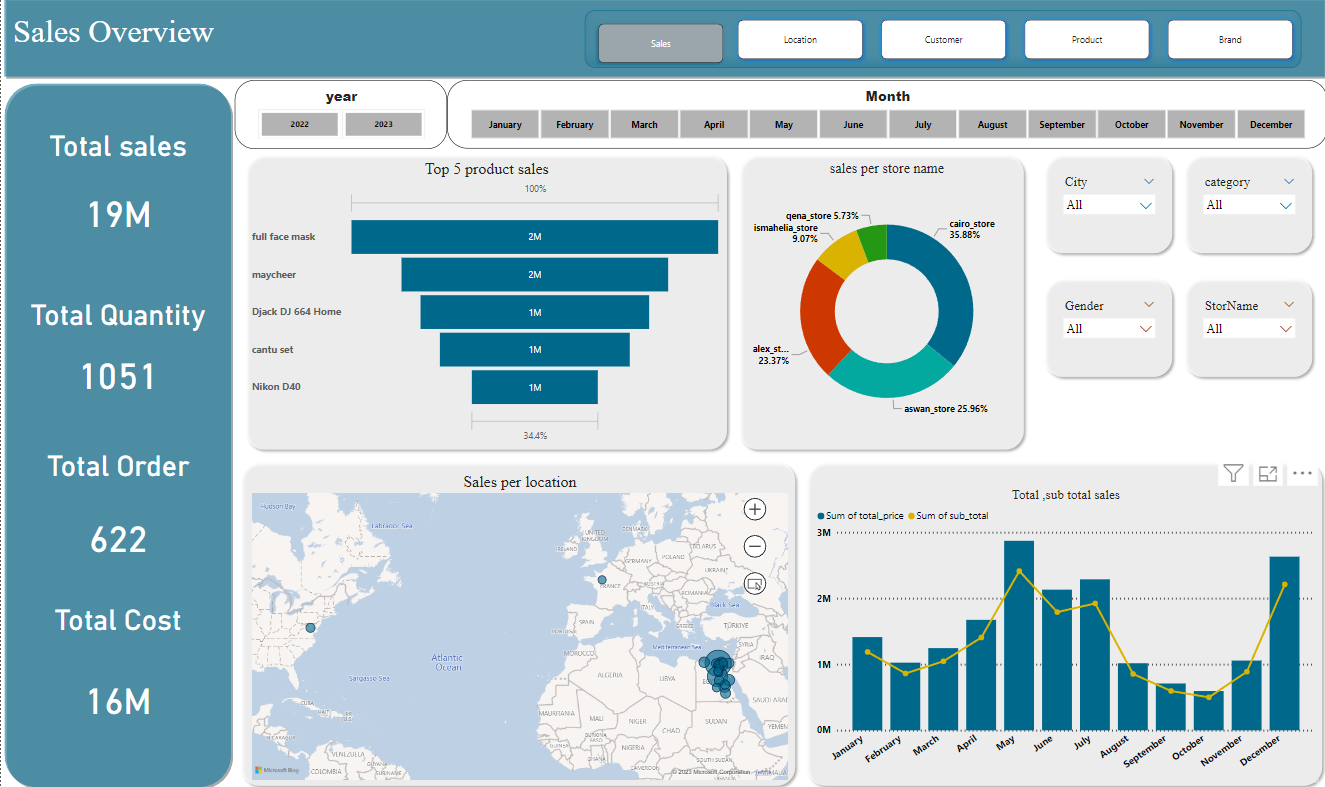

The page's visual inventory and layout, read from the dashboard file:
{"tool":"powerbi","page":{"name":"Sales","canvas":[2000,1200],"ordinal":0},"visuals":[{"type":"shape","box":[0,0,2000,128.4],"z":0},{"type":"textbox","box":[123.2,19.6,457.1,87.5],"z":1000},{"type":"shape","box":[0,128.6,351.8,1071.4],"z":2000},{"type":"slicer","title":"year","fields":{"Values":["DimDate.year"]},"box":[352.3,128.1,320.3,103.6],"z":3000},{"type":"slicer","title":"Month","fields":{"Values":["DimDate.orderDate.Variation.Date Hierarchy.Month"]},"box":[673.2,128.6,1326.8,103.6],"z":4000},{"type":"shape","box":[351.8,694.6,853.6,505.4],"z":5000},{"type":"shape","box":[1205.4,694.6,794.6,505.4],"z":6000},{"type":"shape","box":[360.7,232.1,742.9,462.5],"z":7000},{"type":"shape","box":[1103.6,232.1,446.4,462.5],"z":8000},{"type":"map","title":"Sales per location","fields":{"Category":["Dimlocation.City"],"Size":["Sum(FOrder.total_price)"]},"box":[373.2,719.6,817.9,467.9],"z":9000},{"type":"donutChart","title":"sales per store name ","fields":{"Category":["DimStor.StorName"],"Y":["Sum(FOrder.total_price)"]},"box":[1121.4,248.2,428.6,432.1],"z":10000},{"type":"funnel","title":"Top 5 product sales","fields":{"Category":["Dimproduct.productName"],"Y":["Sum(FOrder.total_price)"]},"box":[373.2,248.2,717.9,432.1],"z":11000},{"type":"lineClusteredColumnComboChart","title":"Total ,sub total sales","fields":{"Category":["DimDate.orderDate.Variation.Date Hierarchy.Month"],"Y":["Sum(FOrder.total_price)"],"Y2":["Sum(FOrder.sub_total)"]},"box":[1225,742.9,760.7,444.6],"z":12000},{"type":"card","fields":{"Values":["Sum(FOrder.total_price)"]},"box":[26.8,275,300,96.4],"z":13000},{"type":"card","fields":{"Values":["Sum(FOrder.Quantity)"]},"box":[26.8,519.6,300,96.4],"z":14000},{"type":"card","fields":{"Values":["Sum(FOrder.sub_total)"]},"box":[26.4,1009.7,299.5,96.1],"z":15000},{"type":"card","fields":{"Values":["CountNonNull(FOrder.Order ID)"]},"box":[26.8,764.3,300,96.4],"z":16000},{"type":"shape","box":[1775,232.1,210.7,166.1],"z":17000},{"type":"shape","box":[1564.3,232.1,210.7,166.1],"z":18000},{"type":"shape","box":[1775,417.9,210.7,166.1],"z":19000},{"type":"shape","box":[1564.3,417.9,210.7,166.1],"z":20000},{"type":"slicer","fields":{"Values":["Dimproduct.category"]},"box":[1800,266.1,160.7,98.2],"z":21000},{"type":"slicer","fields":{"Values":["DimStor.StorName"]},"box":[1800,451.8,160.7,98.2],"z":22000},{"type":"slicer","fields":{"Values":["Dimlocation.City"]},"box":[1589.3,266.1,160.7,98.2],"z":23000},{"type":"slicer","fields":{"Values":["Dimcastomers.Gender"]},"box":[1589.3,451.8,160.7,98.2],"z":24000},{"type":"textbox","box":[26.8,198.2,300,67.9],"z":25000},{"type":"textbox","box":[26.8,451.8,300,67.9],"z":26000},{"type":"textbox","box":[26.8,680.4,300,67.9],"z":27000},{"type":"textbox","box":[26.8,912.5,300,80.4],"z":28000},{"type":"pageNavigator","box":[880.4,23.2,1080.4,87.5],"z":29000},{"type":"image","box":[10,10,130.9,78.5],"z":29001}]}

Visuals, with their boxes in screenshot pixels (x1, y1, x2, y2), scaled from the page's 2000x1200 canvas onto the 1325x787 screenshot:
shape: box(0, 0, 1324, 84)
textbox: box(82, 13, 384, 70)
shape: box(0, 84, 233, 786)
"year" slicer: box(233, 84, 446, 152)
"Month" slicer: box(446, 84, 1324, 152)
shape: box(233, 456, 799, 786)
shape: box(799, 456, 1324, 786)
shape: box(239, 152, 731, 456)
shape: box(731, 152, 1027, 456)
"Sales per location" map: box(247, 472, 789, 779)
"sales per store name " donutChart: box(743, 163, 1027, 446)
"Top 5 product sales" funnel: box(247, 163, 723, 446)
"Total ,sub total sales" lineClusteredColumnComboChart: box(812, 487, 1316, 779)
card - Sum(FOrder.total_price): box(18, 180, 217, 244)
card - Sum(FOrder.Quantity): box(18, 341, 217, 404)
card - Sum(FOrder.sub_total): box(17, 662, 216, 725)
card - CountNonNull(FOrder.Order ID): box(18, 501, 217, 564)
shape: box(1176, 152, 1316, 261)
shape: box(1036, 152, 1176, 261)
shape: box(1176, 274, 1316, 383)
shape: box(1036, 274, 1176, 383)
slicer - Dimproduct.category: box(1192, 175, 1299, 239)
slicer - DimStor.StorName: box(1192, 296, 1299, 361)
slicer - Dimlocation.City: box(1053, 175, 1159, 239)
slicer - Dimcastomers.Gender: box(1053, 296, 1159, 361)
textbox: box(18, 130, 217, 175)
textbox: box(18, 296, 217, 341)
textbox: box(18, 446, 217, 491)
textbox: box(18, 598, 217, 651)
pageNavigator: box(583, 15, 1299, 73)
image: box(7, 7, 93, 58)
